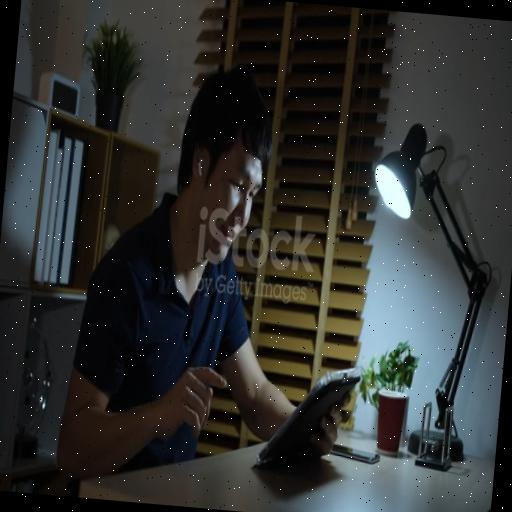earphone: (195, 153, 208, 181)
